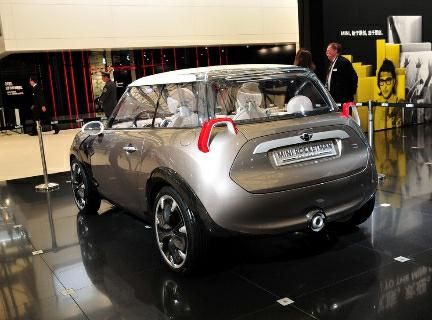MINI-ROCKETMAN: (63, 61, 394, 281)
